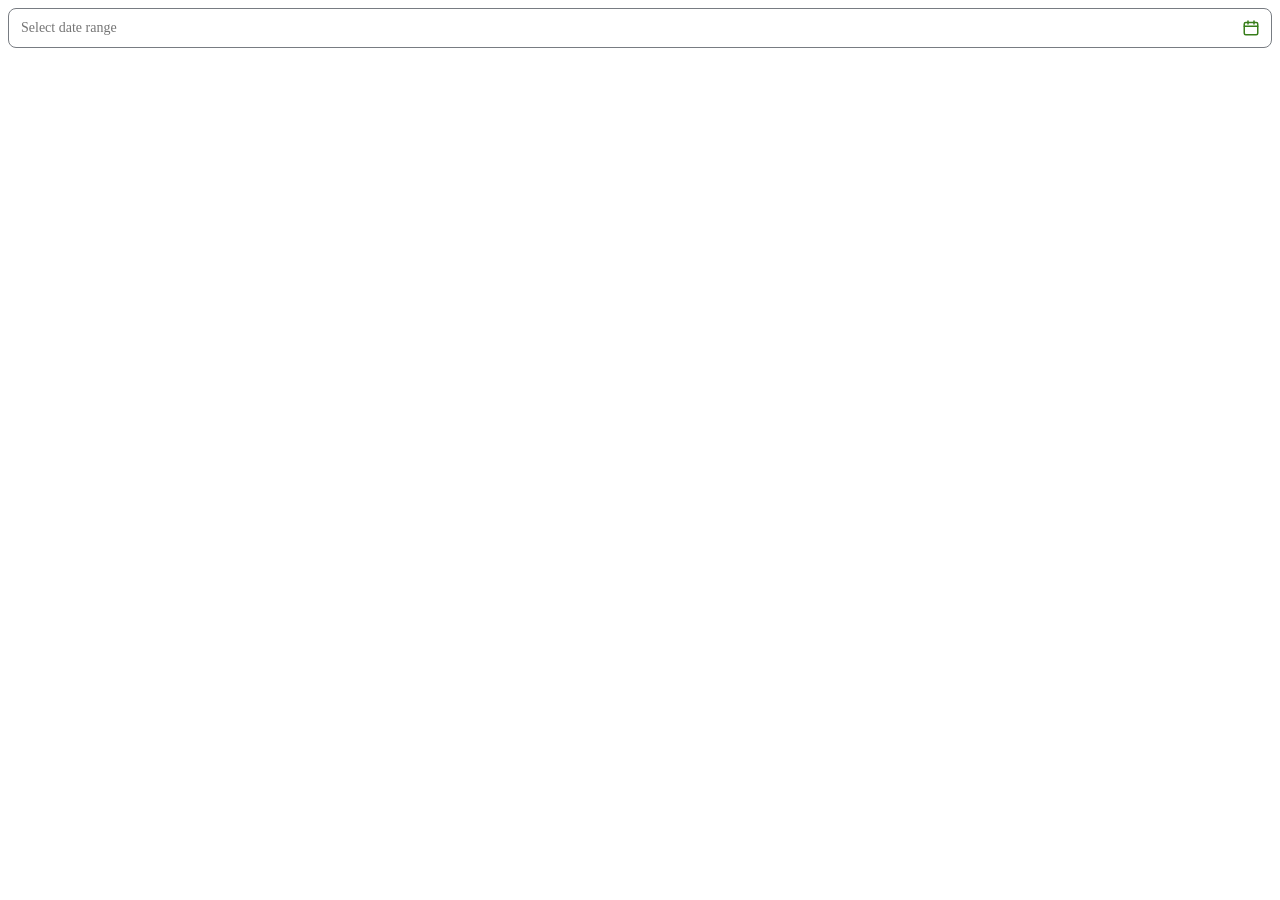
Test case: DateRangePicker › autoApply commits as soon as the range is complete
Click the field named "Period": (621, 28) 9,9 -> 1233,47
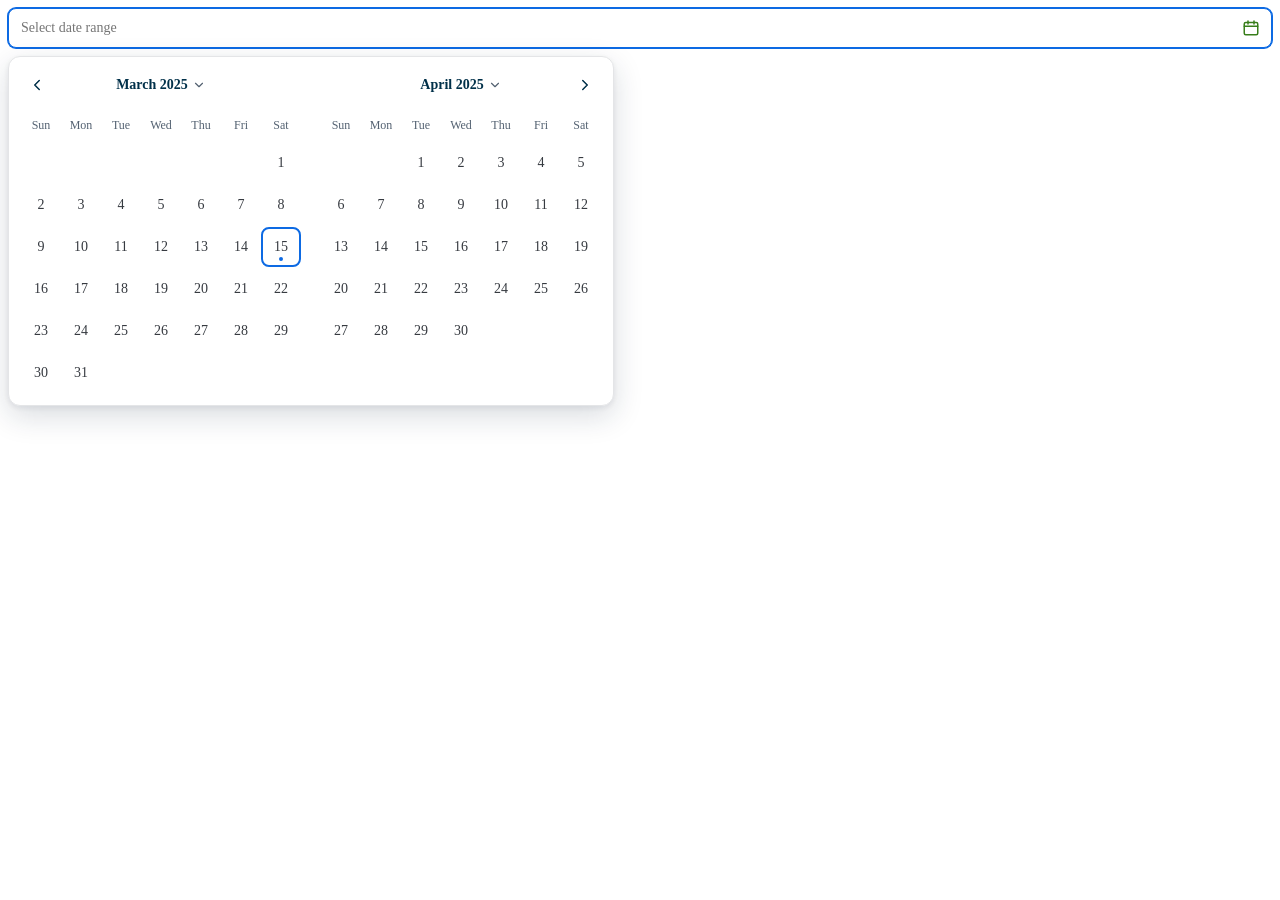
Click the button named "Wednesday, March 5, 2025": (161, 205) 141,185 -> 181,225
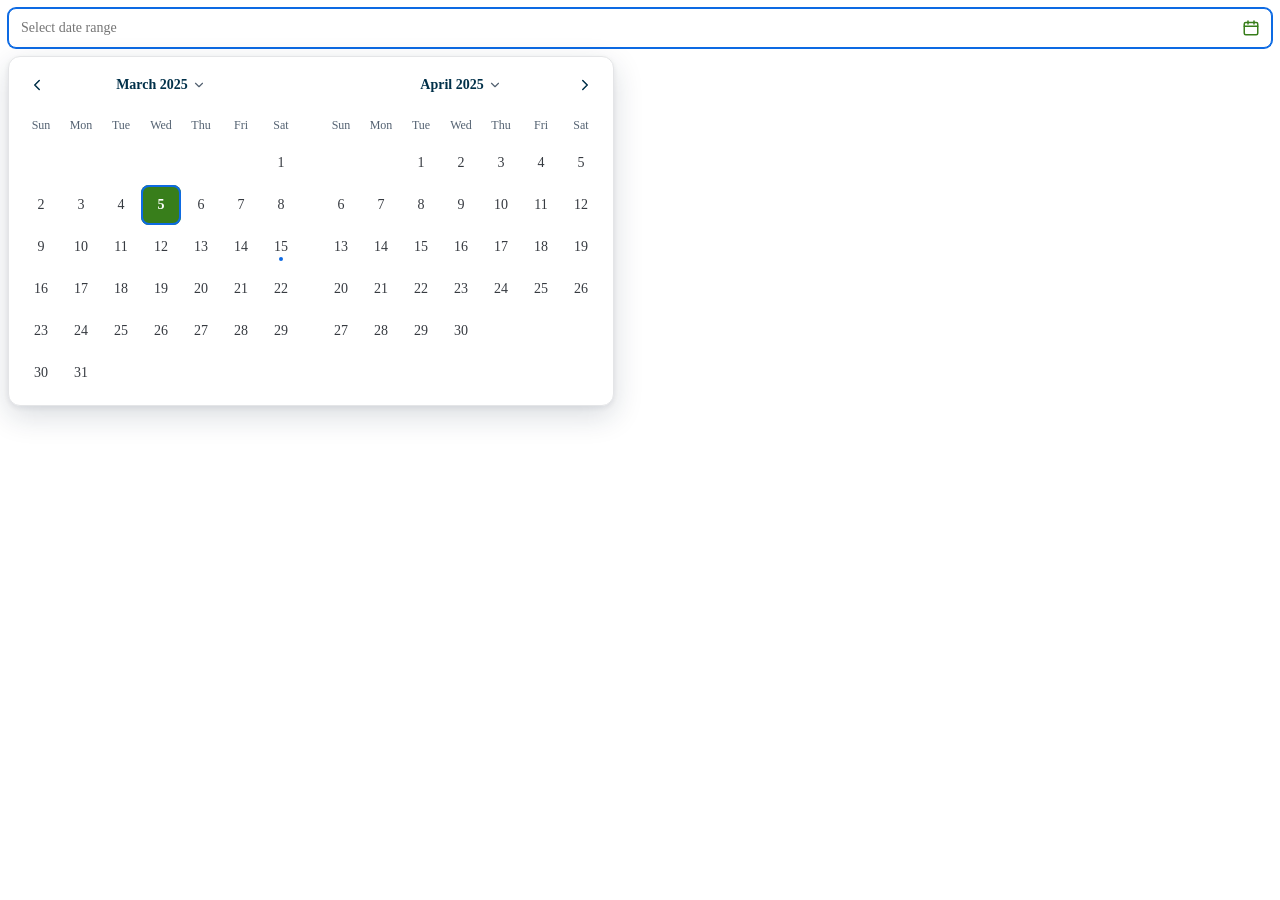
Click the button named "Friday, March 7, 2025": (241, 205) 221,185 -> 261,225
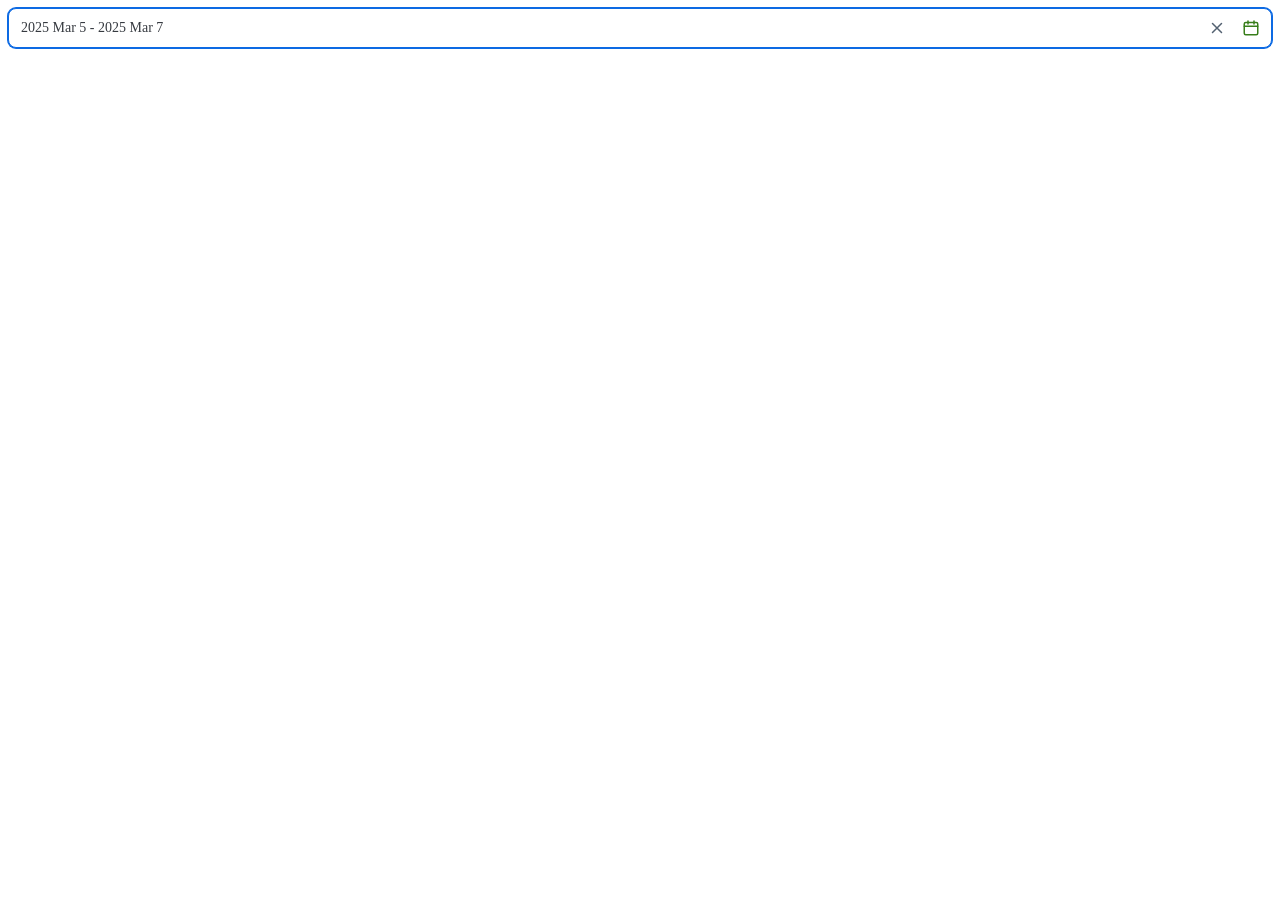
Result: the dialog is gone
